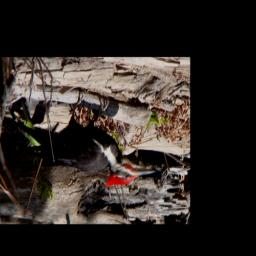Woodpecker: (4, 92, 158, 188)
